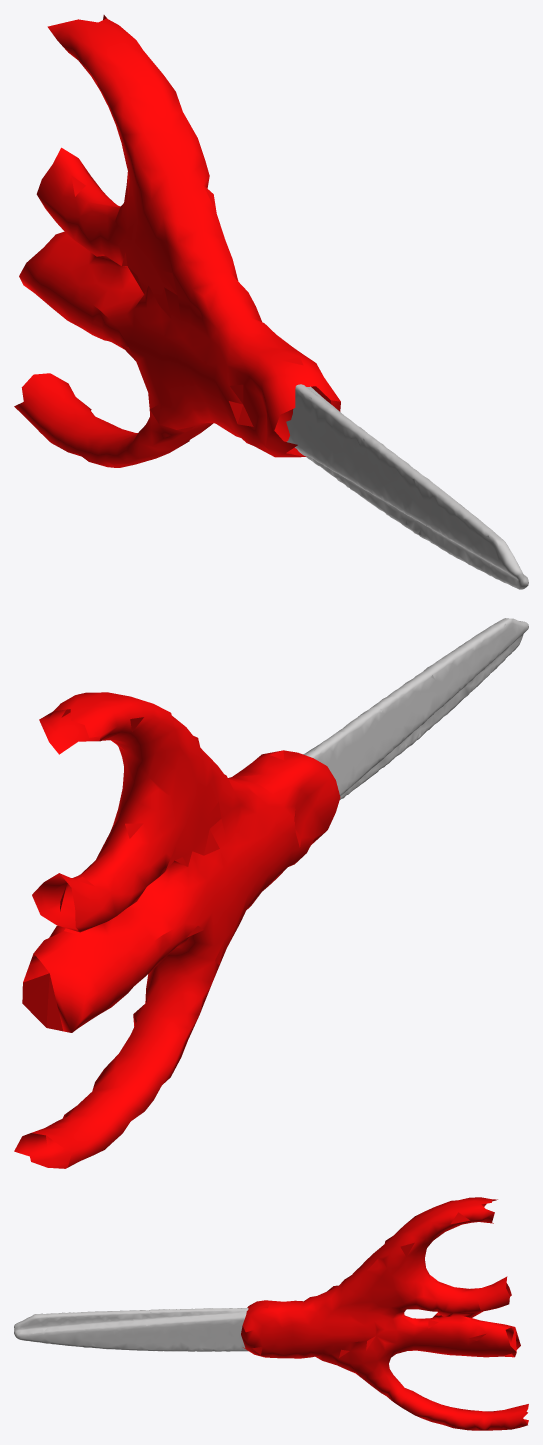
The model's file is scissorszup_main.fbx.
3 views of the same model, one above another, from view 1: azimuth 30°, elevation 25°; view 2: azimuth 150°, elevation 25°; view 3: azimuth 270°, elevation 25° (orthographic). The views are drawn at different scales.
Parts seen in each view (by area): view 1: Node_000000B8A5AFA950.001_meshId1_name, Node_000000B8A5AFA950_meshId0_name; view 2: Node_000000B8A5AFA950.001_meshId1_name, Node_000000B8A5AFA950_meshId0_name; view 3: Node_000000B8A5AFA950.001_meshId1_name, Node_000000B8A5AFA950_meshId0_name.
Part boxes in pixels (bbox=[...]): Node_000000B8A5AFA950.001_meshId1_name: bbox=[14, 15, 340, 467]; Node_000000B8A5AFA950_meshId0_name: bbox=[286, 384, 528, 589]; Node_000000B8A5AFA950.001_meshId1_name: bbox=[14, 692, 340, 1168]; Node_000000B8A5AFA950_meshId0_name: bbox=[303, 618, 528, 799]; Node_000000B8A5AFA950.001_meshId1_name: bbox=[241, 1197, 528, 1430]; Node_000000B8A5AFA950_meshId0_name: bbox=[14, 1308, 248, 1351].
Bounding box in the file's own units: 1.57 × 8.74 × 17.94.
